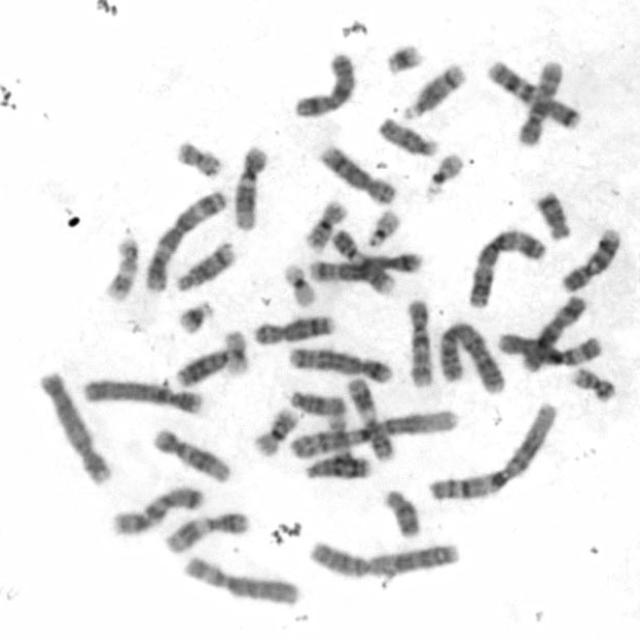A1: (424, 397, 562, 503), (286, 406, 462, 461)
A2: (300, 533, 462, 581), (434, 318, 507, 397)
A3: (140, 184, 229, 294), (463, 224, 547, 310)
B4: (37, 367, 113, 488), (79, 373, 206, 416)
B5: (286, 342, 395, 385), (306, 248, 426, 284)
C10: (513, 56, 565, 148), (402, 295, 437, 390)
C11: (343, 374, 396, 464), (161, 507, 252, 556)
C12: (148, 424, 233, 484), (228, 142, 270, 232)
C6: (179, 551, 302, 608), (493, 328, 605, 368)
C7: (484, 56, 581, 132), (107, 482, 205, 538)
C8: (314, 141, 398, 206), (250, 310, 339, 347)
C9: (328, 225, 396, 297), (554, 231, 622, 296)
D13: (171, 340, 247, 388), (301, 451, 374, 480)
D14: (398, 58, 468, 122), (172, 238, 238, 294)
D15: (374, 113, 439, 159), (286, 386, 348, 417)
E16: (299, 196, 350, 252), (249, 404, 301, 458)
E17: (102, 233, 141, 304), (323, 394, 356, 464)
E18: (380, 484, 423, 538), (531, 188, 573, 242)
F19: (280, 259, 319, 308), (219, 327, 251, 378)
F20: (171, 136, 225, 180), (568, 364, 617, 404)
G21: (381, 39, 425, 77), (173, 297, 216, 335)
G22: (420, 147, 465, 200), (362, 205, 404, 249)
X: (518, 290, 588, 372), (289, 49, 357, 119)
